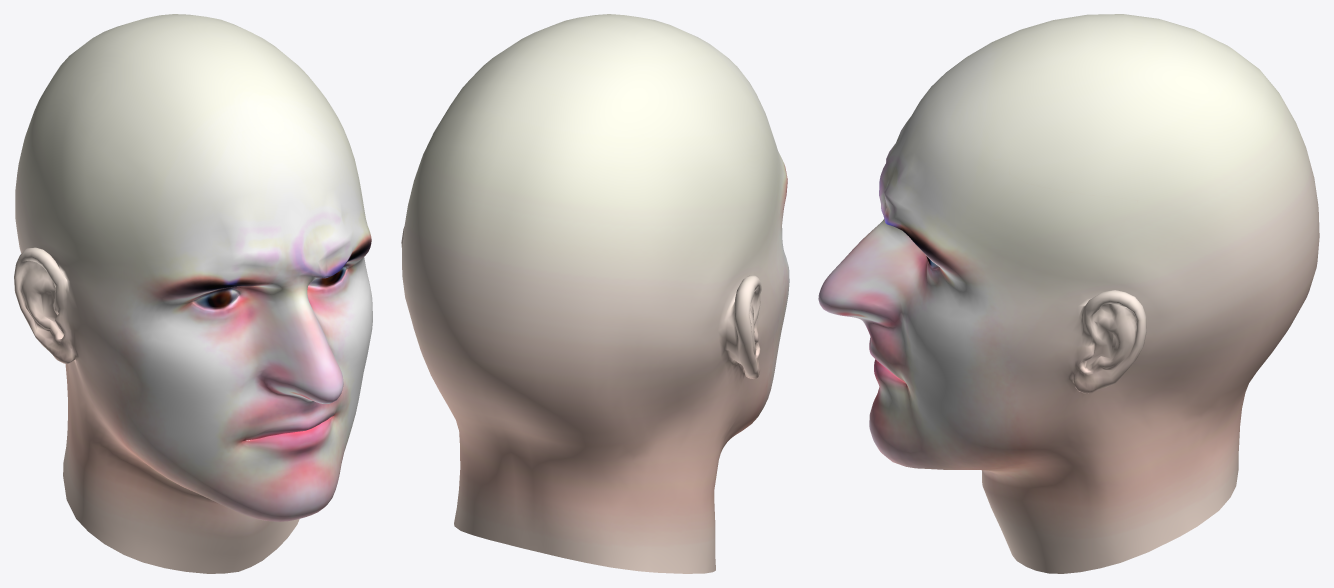
File: random_anyrace_anysex_05.obj
3 renders of one model, left to right at view 1: azimuth 30°, elevation 25°; view 2: azimuth 150°, elevation 25°; view 3: azimuth 270°, elevation 25°, orthographic. The views are drawn at different scales.
Visible parts, largest first — view 1: HeadHires; view 2: HeadHires; view 3: HeadHires.
Boxes of the visible parts, x1,y1,x2,y2 form: HeadHires: [14, 14, 372, 573]; HeadHires: [401, 14, 789, 573]; HeadHires: [818, 14, 1319, 573].
Bounding box in the file's own units: 189 × 283 × 247.
1 material, 1 textured.
